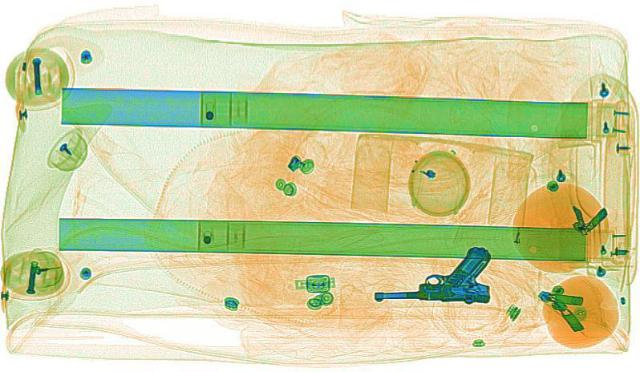Gun: (370, 244, 492, 299)
